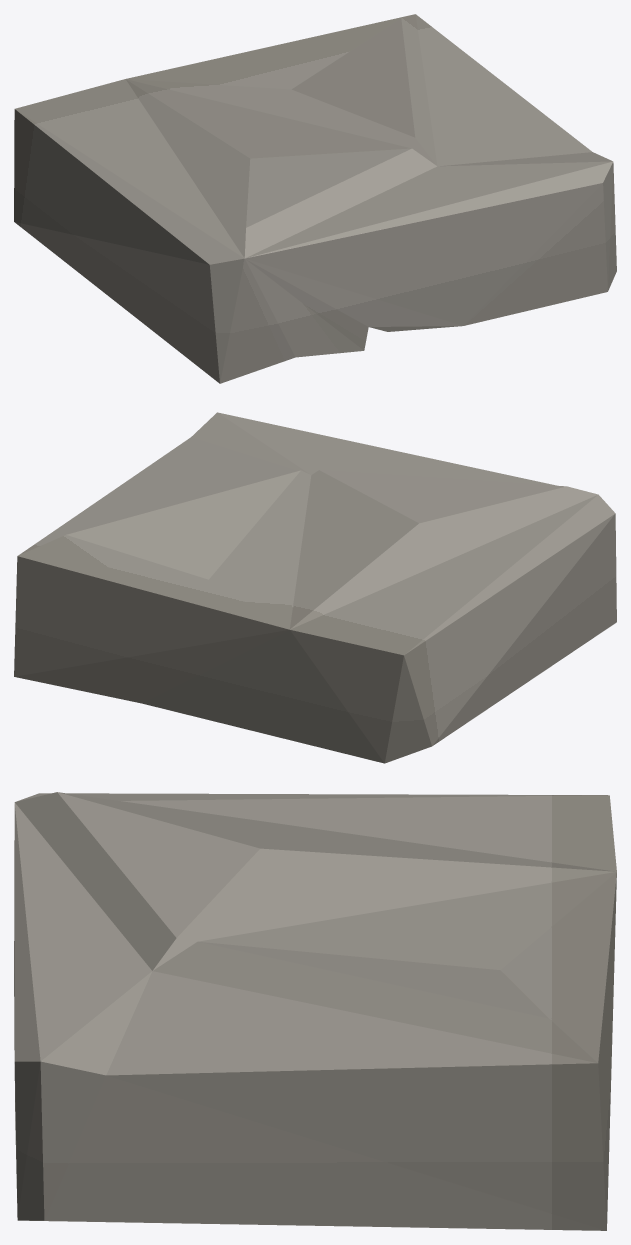
The model's file is YN_Pillar5.fbx.
3 renders of one model, top to bottom at view 1: azimuth 30°, elevation 25°; view 2: azimuth 150°, elevation 25°; view 3: azimuth 270°, elevation 25°, orthographic. The views are drawn at different scales.
Visible parts, largest first — view 1: Pillar5; view 2: Pillar5; view 3: Pillar5.
Part boxes in pixels (x1,y1,x2,y2): Pillar5: [14, 14, 616, 383]; Pillar5: [14, 412, 616, 763]; Pillar5: [14, 792, 616, 1230].
Bounding box in the file's own units: 1.92 × 0.6257 × 1.74.
